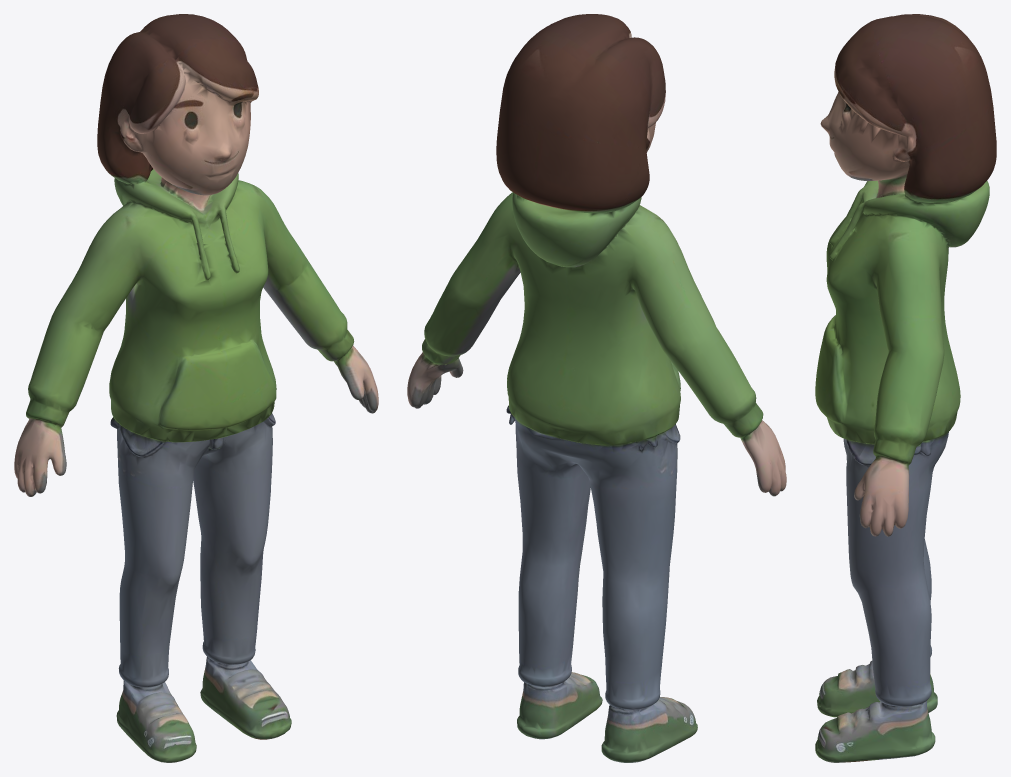
The model's file is customer_a.glb.
3 renders of one model, left to right at view 1: azimuth 30°, elevation 25°; view 2: azimuth 150°, elevation 25°; view 3: azimuth 270°, elevation 25°, orthographic. The views are drawn at different scales.
Parts seen in each view (by area): view 1: tripo_node_071b28ea-ee37-4270-9fe0-5e8017ce2174; view 2: tripo_node_071b28ea-ee37-4270-9fe0-5e8017ce2174; view 3: tripo_node_071b28ea-ee37-4270-9fe0-5e8017ce2174.
Part boxes in pixels (x1,y1,x2,y2): tripo_node_071b28ea-ee37-4270-9fe0-5e8017ce2174: (14, 14, 378, 762); tripo_node_071b28ea-ee37-4270-9fe0-5e8017ce2174: (407, 14, 786, 762); tripo_node_071b28ea-ee37-4270-9fe0-5e8017ce2174: (815, 14, 996, 762).
Bounding box in the file's own units: 0.5341 × 0.9998 × 0.2311.
1 material, 1 textured.
